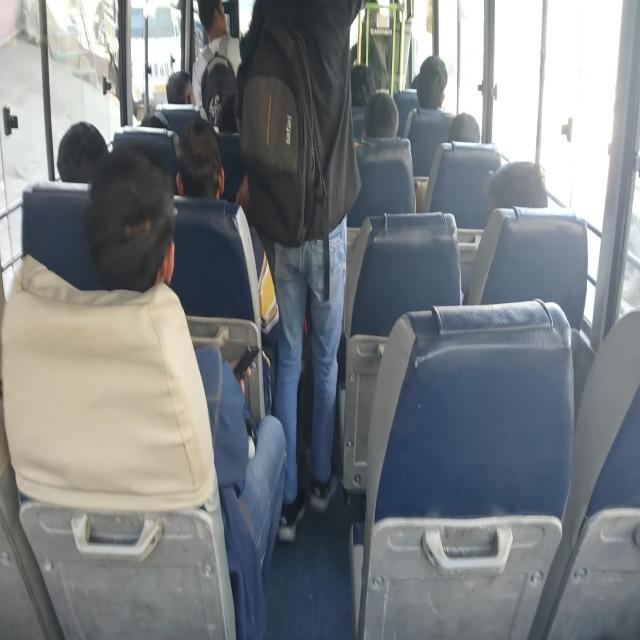person: (256, 5, 355, 214), (98, 148, 170, 297), (478, 157, 544, 230), (181, 127, 229, 183), (61, 123, 106, 175), (193, 0, 239, 46), (365, 92, 410, 133), (443, 115, 488, 154), (350, 64, 387, 110), (421, 54, 448, 105), (221, 87, 246, 135), (142, 108, 173, 144), (167, 75, 197, 105), (411, 65, 424, 87)
